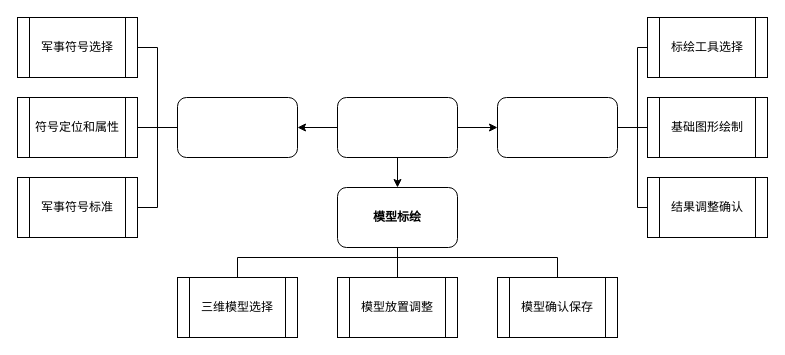
This 785x355 diagram has some shape labels left out. The box of each missing label's shape, as (x1, y1, x2, y2) in pixels:
军事标绘: (176, 96, 298, 158)
基础标绘: (496, 96, 618, 158)
标绘主流程: (336, 96, 458, 158)
